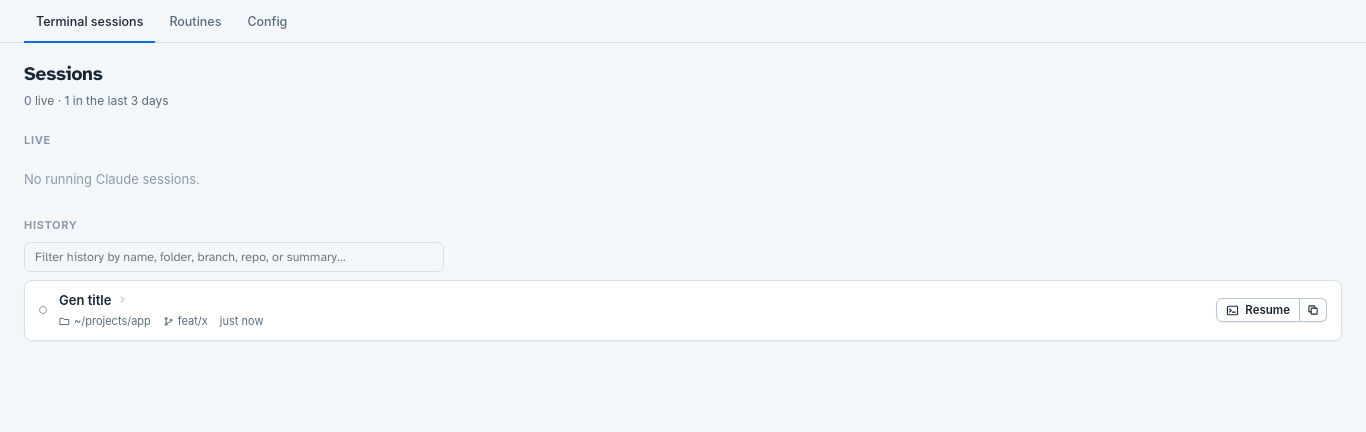
Test: SessionsView › labels an app-generated summary on a history session, without a generate button
Click the button named "show summary": (94, 300) [59,291,129,310]
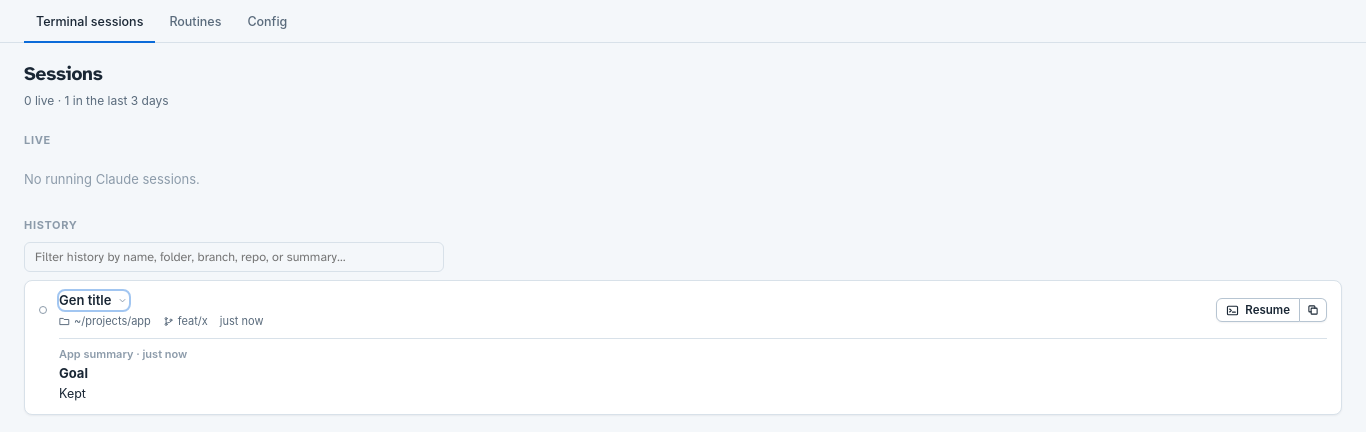
expect the text "App summary · just now" is shown: met, box [59,347,187,361]
